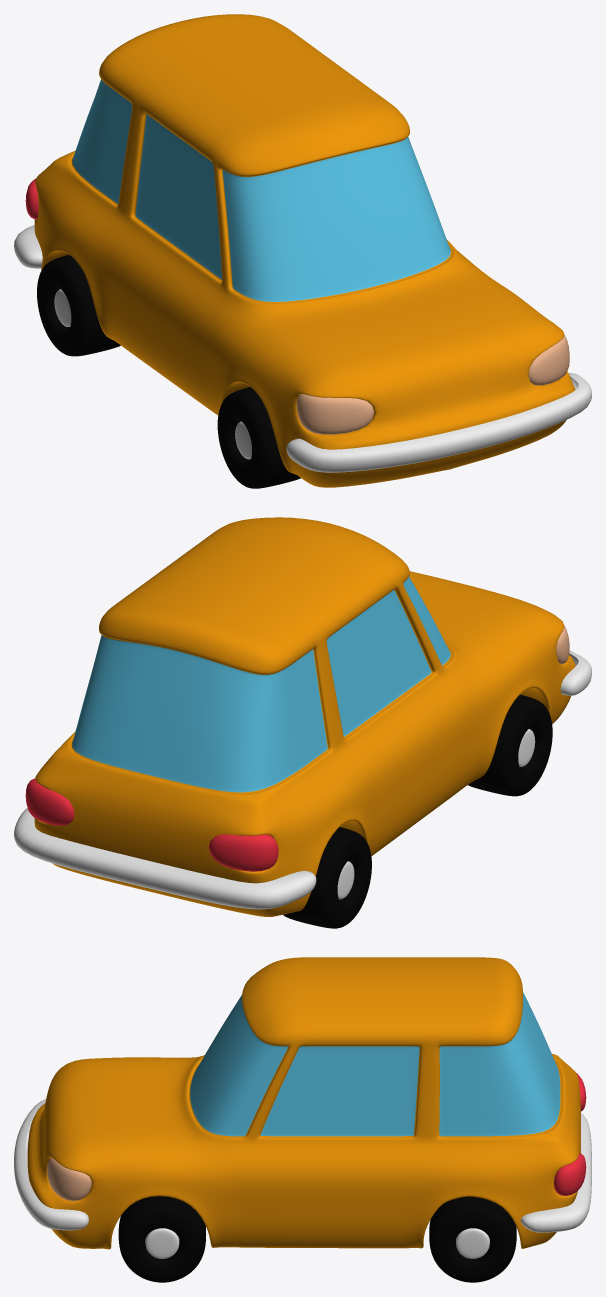
File: car.fbx
The picture shows the model from 3 angles, top to bottom: view 1: azimuth 30°, elevation 25°; view 2: azimuth 150°, elevation 25°; view 3: azimuth 270°, elevation 25°; orthographic projection. The views are drawn at different scales.
Parts seen in each view (by area): view 1: Vert, Vert.004, Circle.001, Circle, Vert.001, Vert.003; view 2: Vert, Vert.003, Circle, Circle.001, Vert.002, Vert.004; view 3: Vert, Circle, Circle.001, Vert.004, Vert.003, Vert.001, Vert.002.
Boxes of the visible parts, x1,y1,x2,y2 form: Vert: (34,14,575,487); Vert.004: (286,373,591,472); Circle.001: (37,254,120,356); Circle: (217,387,300,488); Vert.001: (296,335,569,434); Vert.003: (14,225,42,268); Vert: (34,517,575,916); Vert.003: (14,808,316,909); Circle: (468,694,552,796); Circle.001: (283,827,371,928); Vert.002: (25,778,278,871); Vert.004: (560,650,591,695); Vert: (27,957,580,1249); Circle: (118,1196,206,1282); Circle.001: (429,1196,516,1282); Vert.004: (14,1099,88,1230); Vert.003: (520,1113,591,1232); Vert.001: (47,1158,91,1200); Vert.002: (554,1073,586,1195).
Size of the model in its own units: 47.2 by 43.85 by 93.62.
